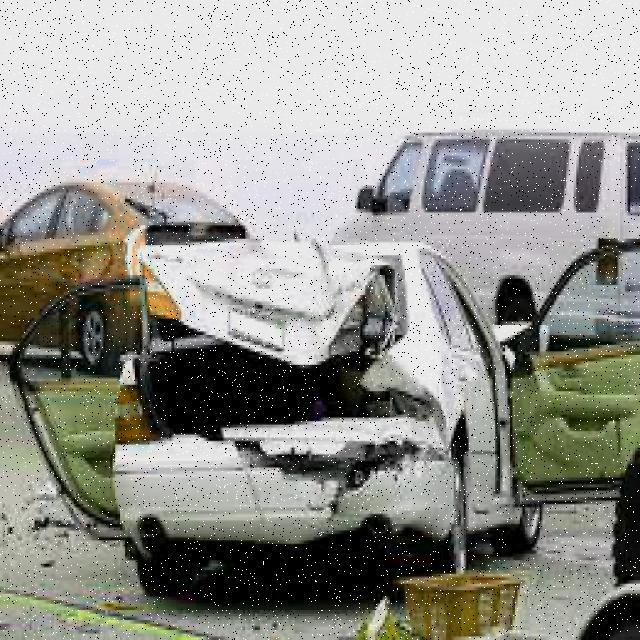car damage: (127, 238, 471, 535)
